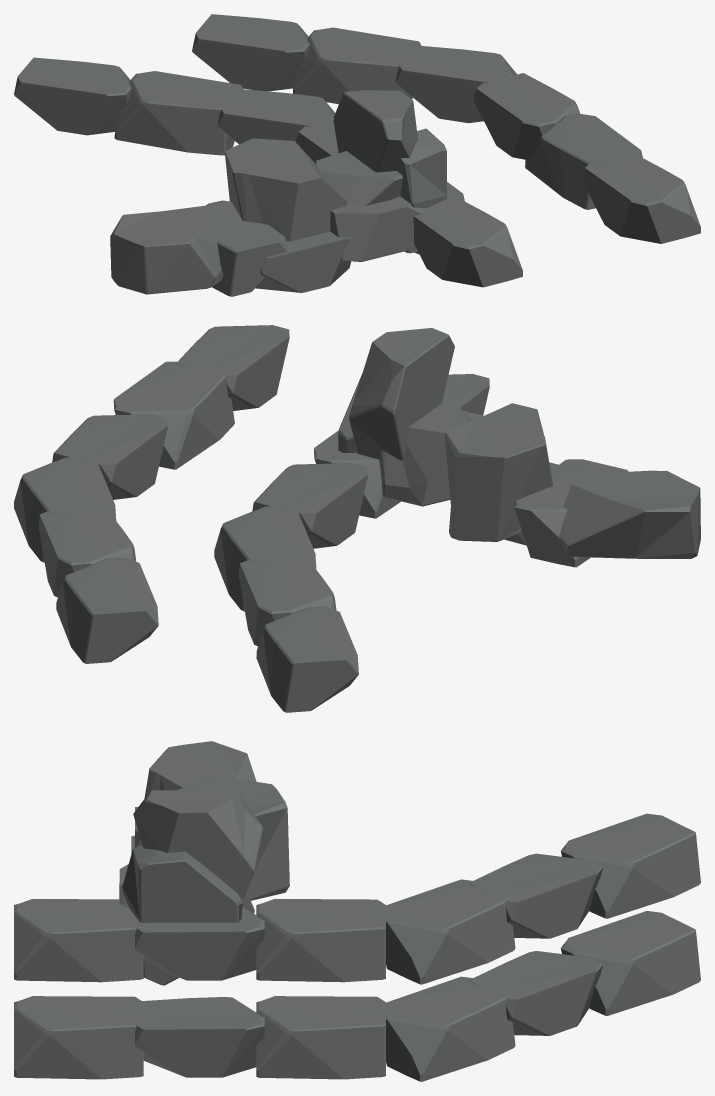
The model's file is Stone.fbx.
3 renders of one model, top to bottom at view 1: azimuth 30°, elevation 25°; view 2: azimuth 150°, elevation 25°; view 3: azimuth 270°, elevation 25°, orthographic. The views are drawn at different scales.
Parts seen in each view (by area): view 1: Rock 4.012; view 2: Rock 4.012; view 3: Rock 4.012.
Part boxes in pixels (x1,y1,x2,y2): Rock 4.012: (14, 14, 700, 296); Rock 4.012: (14, 325, 700, 712); Rock 4.012: (14, 741, 700, 1081).
Bounding box in the file's own units: 5454 × 1519 × 5673.
